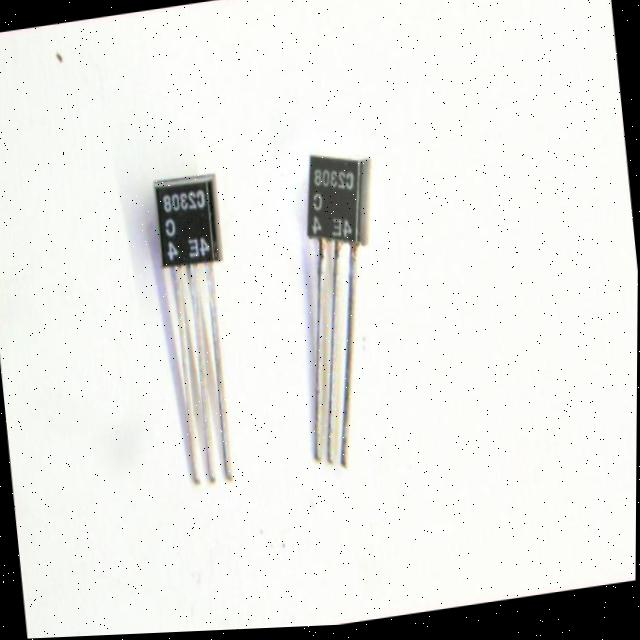Transistor: (140, 159, 250, 496), (289, 136, 391, 484)
